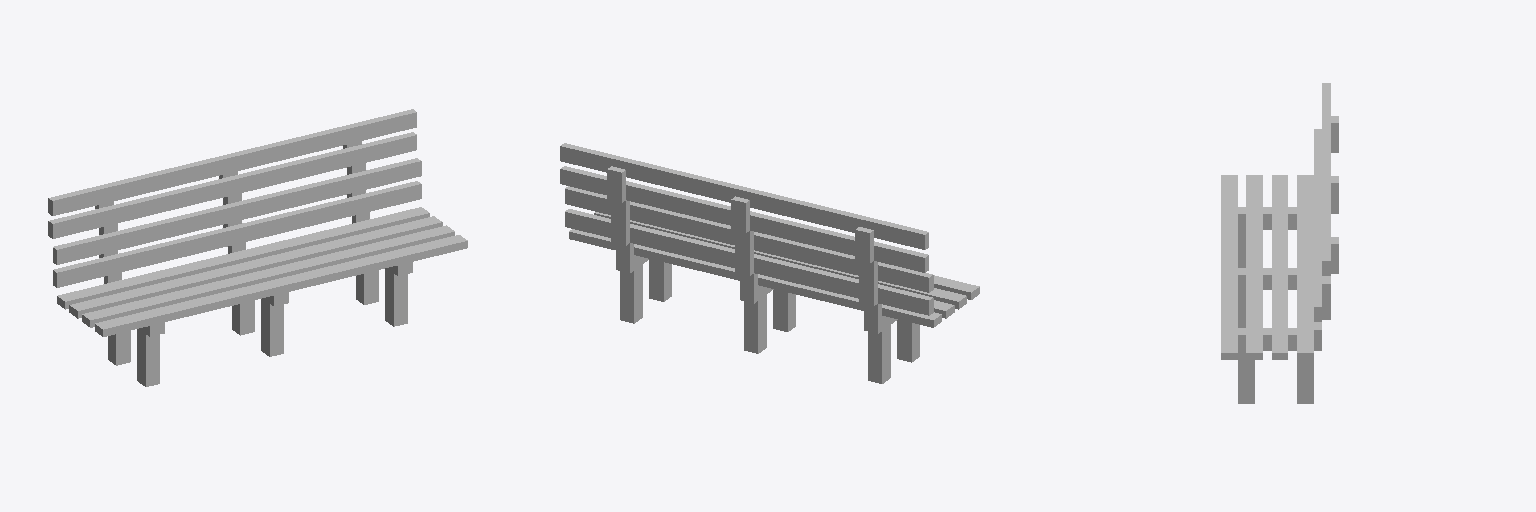
The model's file is Street Bench.obj.
3 views of the same model, side by side, from view 1: azimuth 30°, elevation 25°; view 2: azimuth 150°, elevation 25°; view 3: azimuth 270°, elevation 25° (orthographic).
Parts seen in each view (by area): view 1: object 1; view 2: object 1; view 3: object 1.
Part boxes in pixels (left/top/right/bottom): object 1: left=48, top=109, right=467, bottom=386; object 1: left=560, top=143, right=979, bottom=383; object 1: left=1221, top=83, right=1338, bottom=403.
Size of the model in its own units: 5 by 2.2 by 1.4.